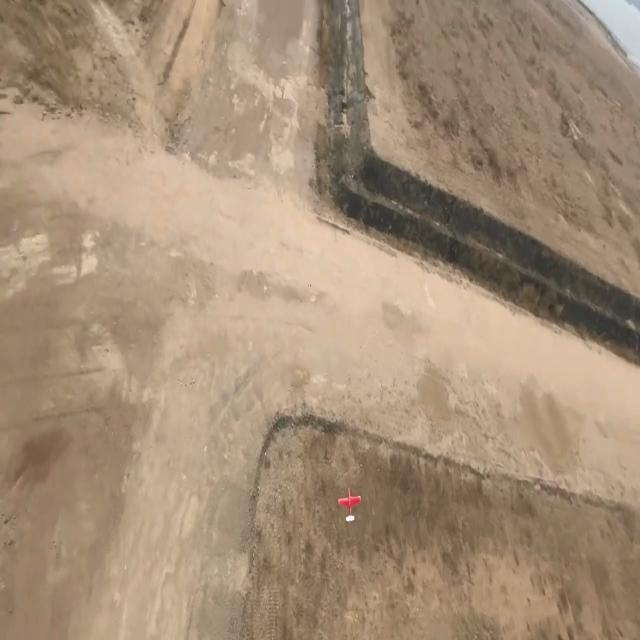iha: (336, 490, 362, 527)
